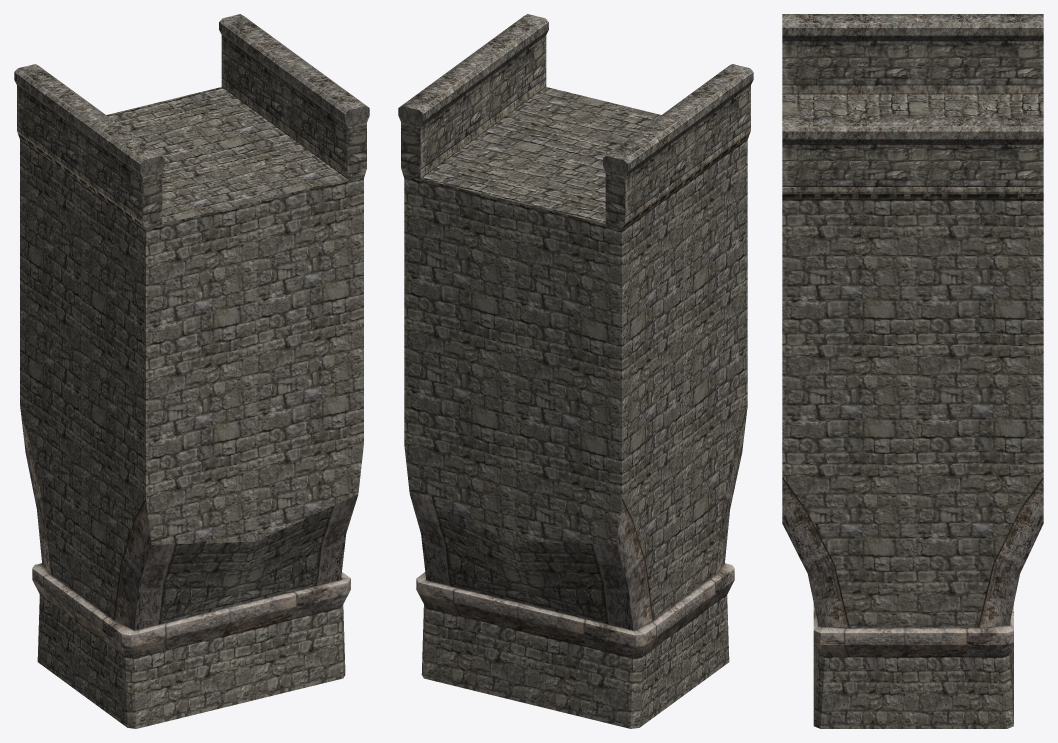
File: StoneBridgeSupport.dae
3 renders of one model, left to right at view 1: azimuth 30°, elevation 25°; view 2: azimuth 150°, elevation 25°; view 3: azimuth 270°, elevation 25°, orthographic. The views are drawn at different scales.
Visible parts, largest first — view 1: Support10_Support_sep34_Bridge_Tiling, Support10_Support_sep34_Bridge; view 2: Support10_Support_sep34_Bridge_Tiling, Support10_Support_sep34_Bridge; view 3: Support10_Support_sep34_Bridge_Tiling, Support10_Support_sep34_Bridge.
Part boxes in pixels (<box>): Support10_Support_sep34_Bridge_Tiling: <box>20,87,363,728</box>; Support10_Support_sep34_Bridge: <box>14,14,369,658</box>; Support10_Support_sep34_Bridge_Tiling: <box>404,87,747,728</box>; Support10_Support_sep34_Bridge: <box>398,14,753,658</box>; Support10_Support_sep34_Bridge_Tiling: <box>782,94,1043,728</box>; Support10_Support_sep34_Bridge: <box>782,14,1043,657</box>.
Bounding box in the file's own units: 4.22 × 10.2 × 4.
